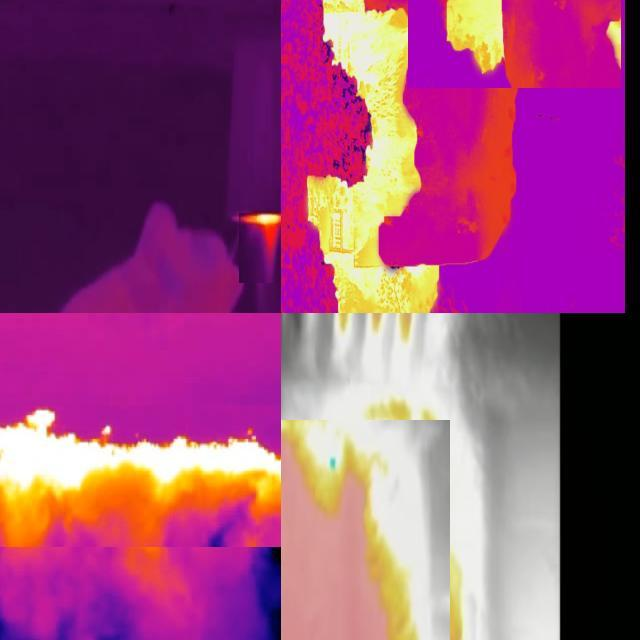fire: (301, 1, 465, 314), (1, 406, 282, 548), (282, 421, 451, 640), (409, 1, 622, 88), (240, 213, 282, 283)
